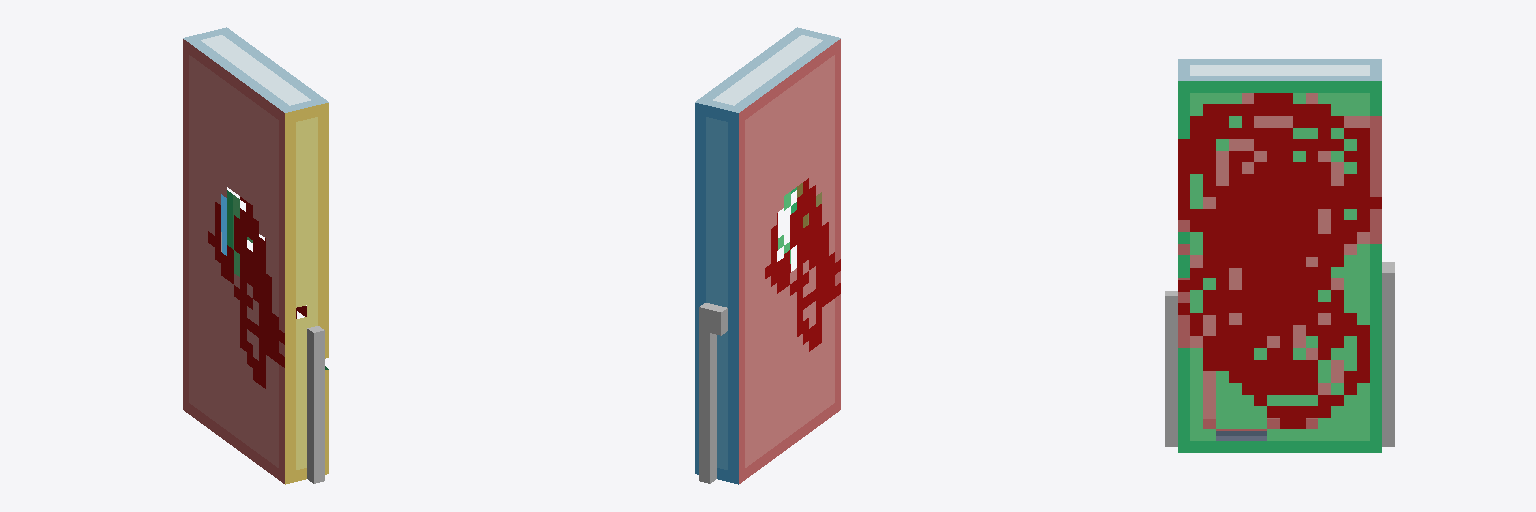
3 views of the same model, side by side, from view 1: azimuth 30°, elevation 25°; view 2: azimuth 150°, elevation 25°; view 3: azimuth 270°, elevation 25° (orthographic).
Visible parts, largest first — view 1: body, arm_right; view 2: body, arm_left, shoulder_left; view 3: body, arm_right, arm_left.
Part boxes in pixels (x1,y1,x2,y2): body: (183,27,328,484); arm_right: (307,326,324,483); body: (695,27,840,484); arm_left: (699,330,716,483); shoulder_left: (699,303,727,335); body: (1178,59,1381,452); arm_right: (1165,291,1177,446); arm_left: (1382,296,1394,446).
Size of the model in its own units: 0.25 by 2 by 1.12.
2 materials, 1 textured.